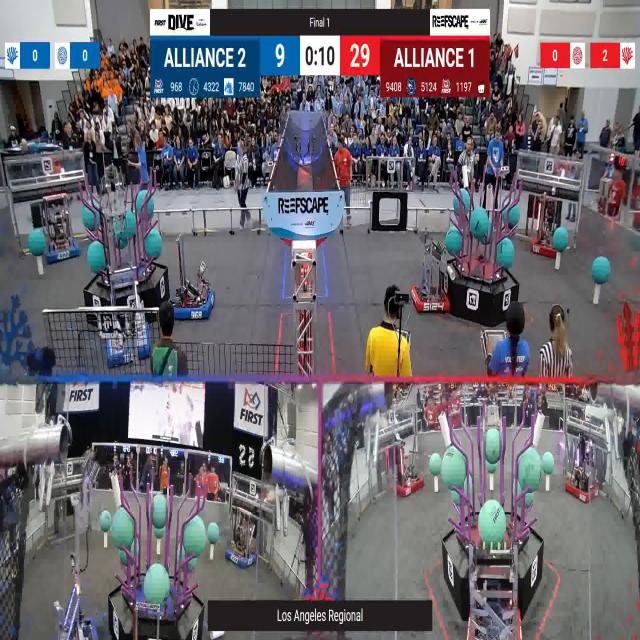scoreboard: (150, 35, 490, 95)
